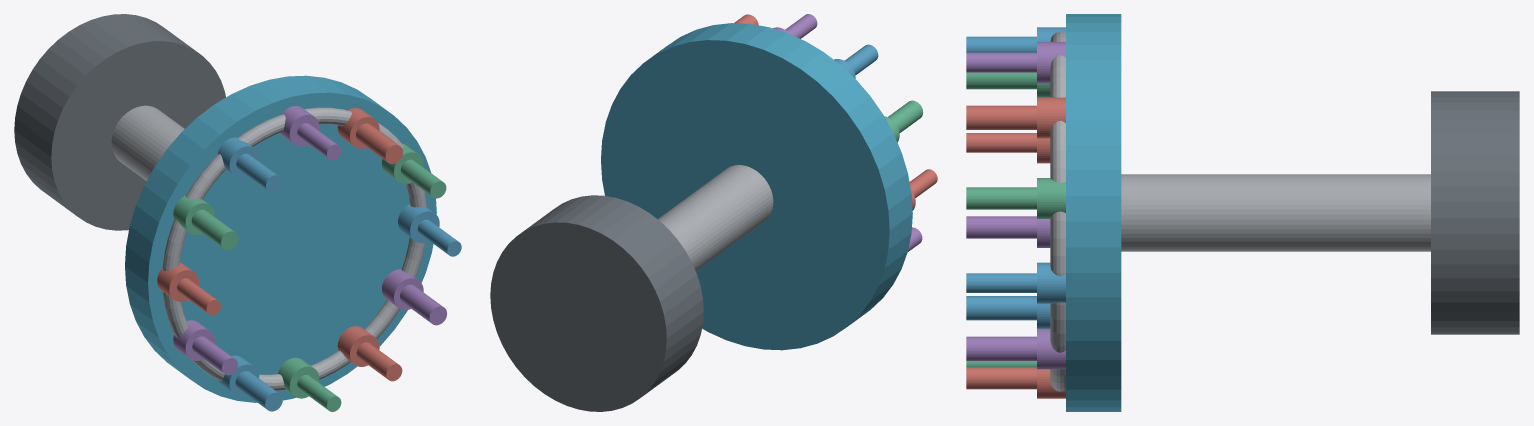
File: dranmar_sterile_tool_carousel.glb
3 renders of one model, left to right at view 1: azimuth 30°, elevation 25°; view 2: azimuth 150°, elevation 25°; view 3: azimuth 270°, elevation 25°, orthographic. The views are drawn at different scales.
Visible parts, largest first — view 1: carousel_rotor, carousel_base, carousel_ring, carousel_column, tool_05, tool_11, tool_02, tool_08, tool_07, tool_04, dock_00, tool_01 (+16 smaller); view 2: carousel_rotor, carousel_base, carousel_column, tool_05, tool_04, tool_06, tool_03; view 3: carousel_column, carousel_rotor, carousel_base, carousel_ring, tool_02, tool_08, tool_11, tool_01, tool_07, tool_10, tool_03, tool_00 (+10 smaller).
Part boxes in pixels (bbox=[...]): carousel_rotor: bbox=[125, 75, 436, 402]; carousel_base: bbox=[14, 14, 225, 230]; carousel_ring: bbox=[162, 107, 426, 390]; carousel_column: bbox=[111, 105, 184, 180]; tool_05: bbox=[191, 209, 238, 250]; tool_11: bbox=[400, 284, 447, 325]; tool_02: bbox=[356, 123, 402, 163]; tool_08: bbox=[235, 371, 282, 411]; tool_07: bbox=[192, 336, 237, 375]; tool_04: bbox=[236, 153, 281, 192]; dock_00: bbox=[398, 204, 439, 243]; tool_01: bbox=[400, 159, 446, 198]; carousel_rotor: bbox=[601, 23, 912, 350]; carousel_base: bbox=[490, 195, 703, 411]; carousel_column: bbox=[658, 165, 773, 271]; tool_05: bbox=[888, 100, 923, 132]; tool_04: bbox=[844, 44, 878, 75]; tool_06: bbox=[909, 169, 937, 197]; tool_03: bbox=[785, 14, 817, 38]; carousel_column: bbox=[1121, 174, 1430, 251]; carousel_rotor: bbox=[1066, 14, 1121, 411]; carousel_base: bbox=[1431, 91, 1519, 334]; carousel_ring: bbox=[1050, 31, 1065, 391]; tool_02: bbox=[966, 105, 1036, 129]; tool_08: bbox=[966, 296, 1036, 320]; tool_11: bbox=[966, 336, 1036, 360]; tool_01: bbox=[966, 187, 1036, 209]; tool_07: bbox=[966, 216, 1036, 238]; tool_10: bbox=[966, 367, 1036, 389]; tool_03: bbox=[966, 52, 1036, 72]; tool_00: bbox=[966, 273, 1036, 292].
Bounding box in the file's own units: 0.72 × 0.72 × 1.
